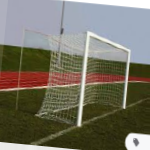goals: (38, 29, 132, 127)
